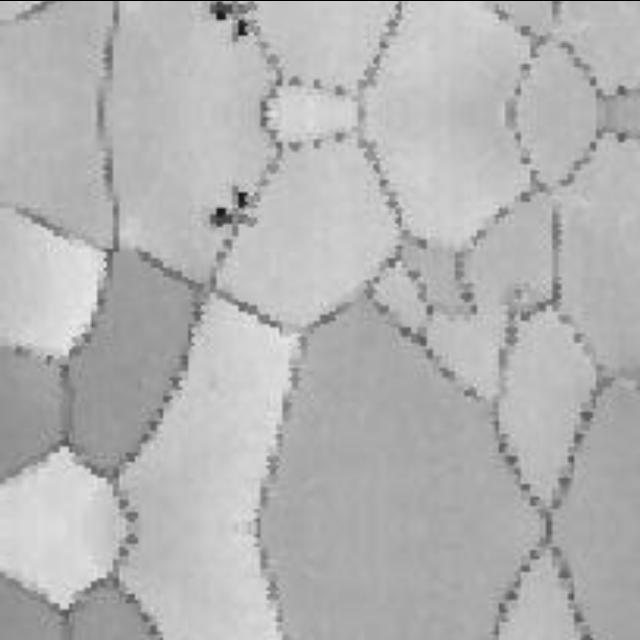good_void: (206, 205, 236, 229), (236, 189, 250, 209), (236, 19, 250, 38)
